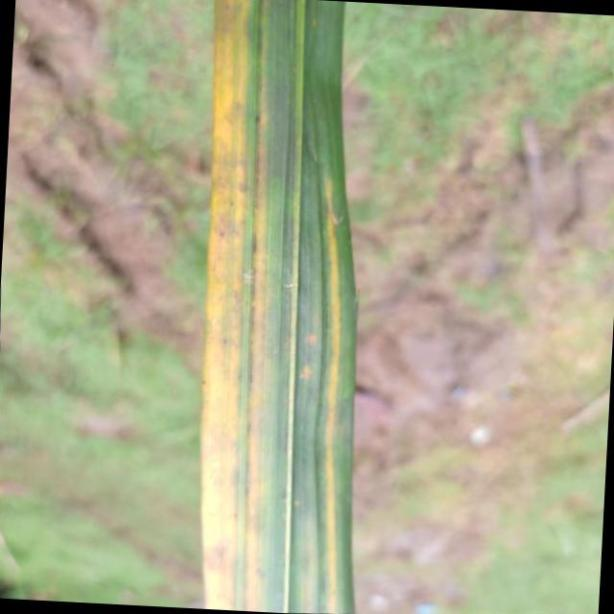Megnesium: (195, 0, 352, 614)
